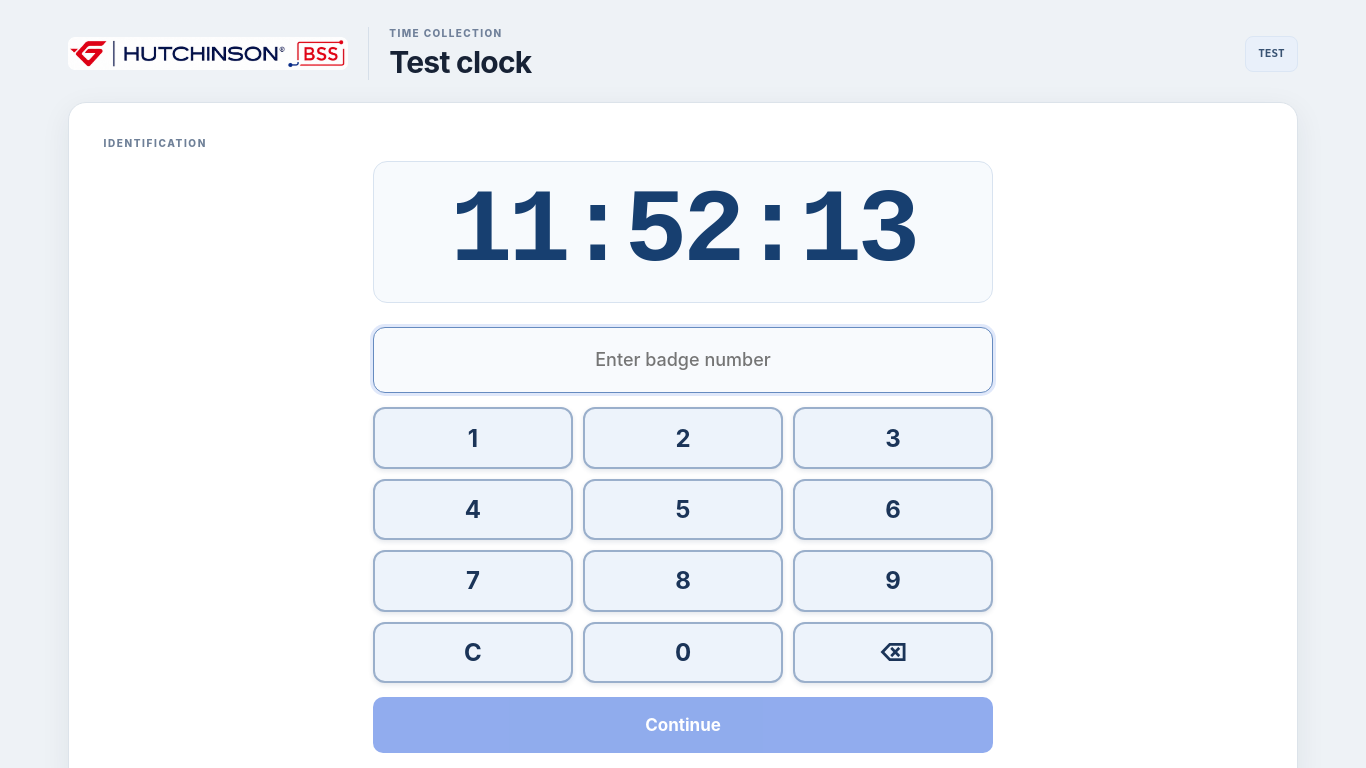
Test: terminal RFID flow › exit menu timeout 0 seconds
The width and height of the screenshot is (1366, 768).
In the field labelled "Enter badge number": (683, 360) x1=373 y1=327 x2=993 y2=393, type "00123"
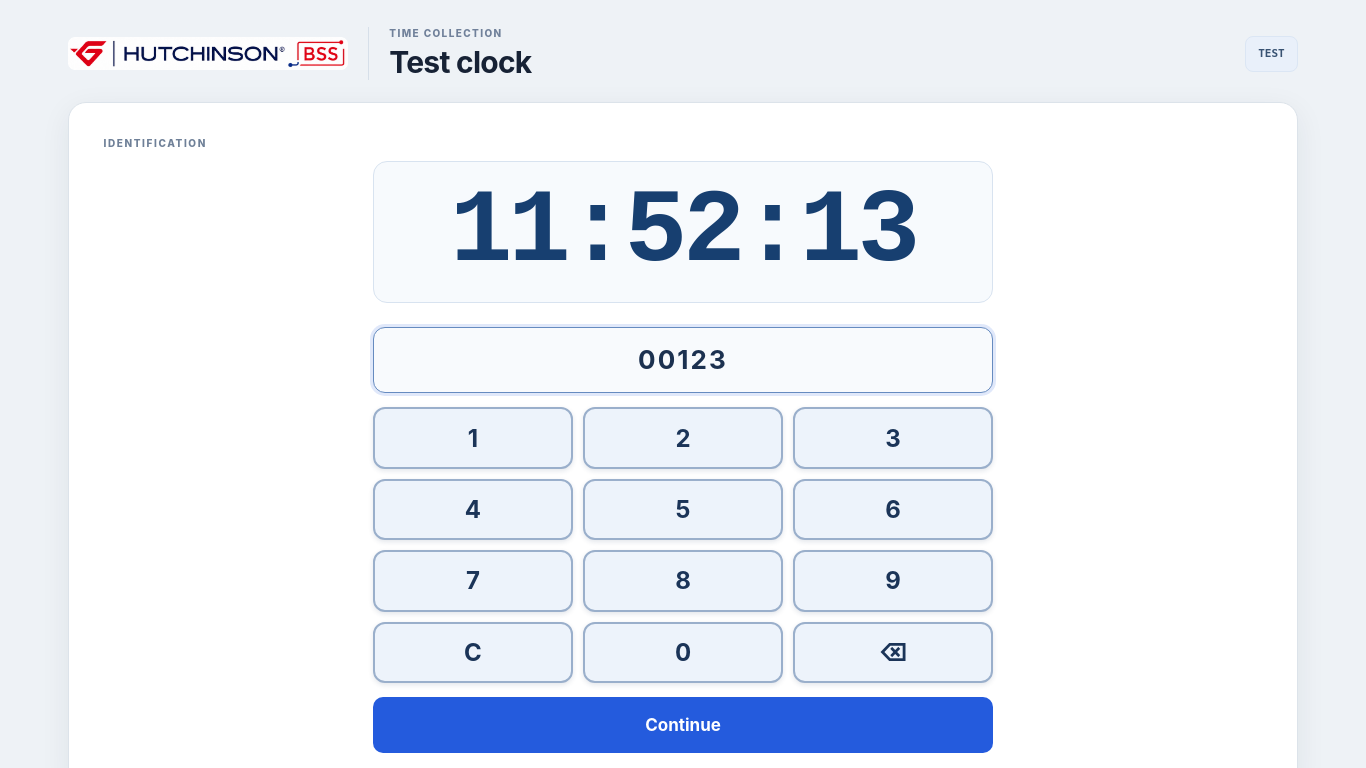
Click the button "Continue": (683, 725) x1=373 y1=697 x2=993 y2=753
Wait 121000 ms
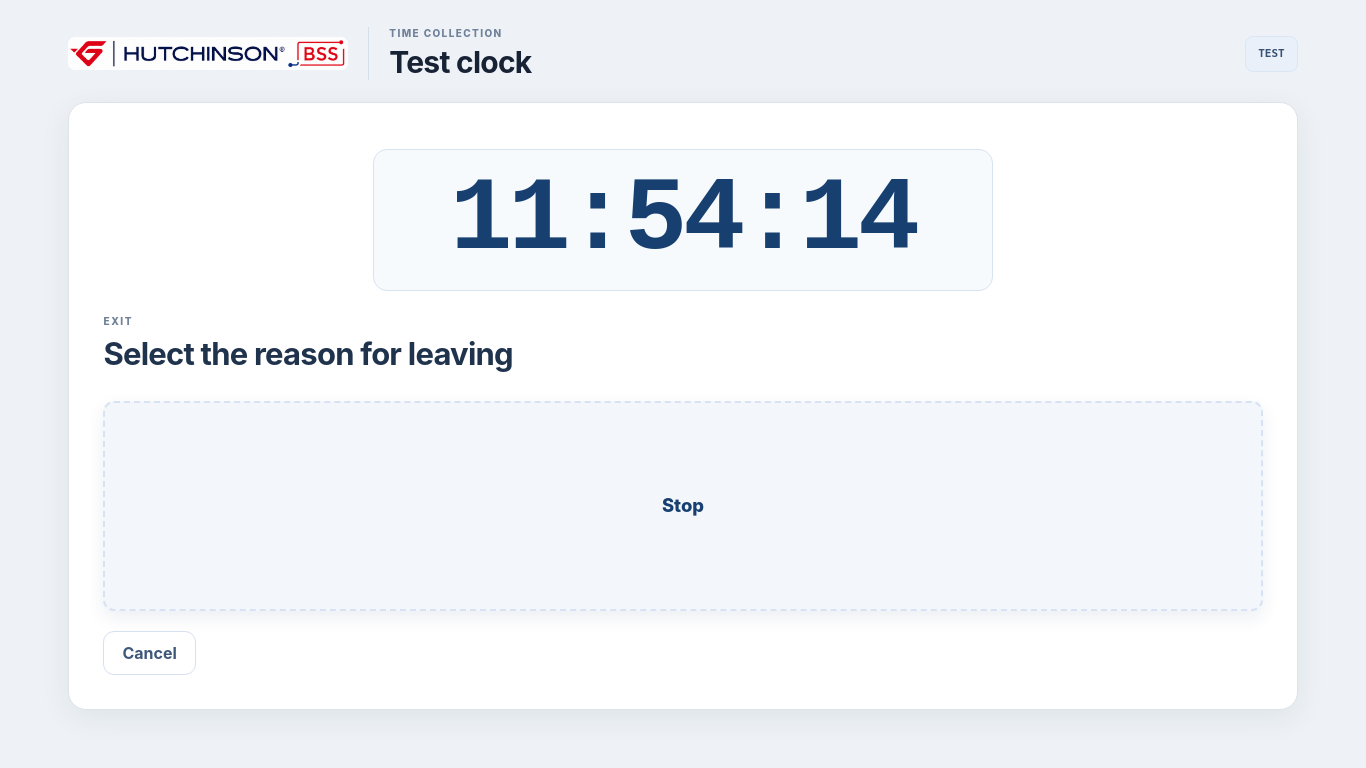
Expected: the heading "Select the reason for leaving" is shown, x1=103 y1=335 x2=513 y2=372
